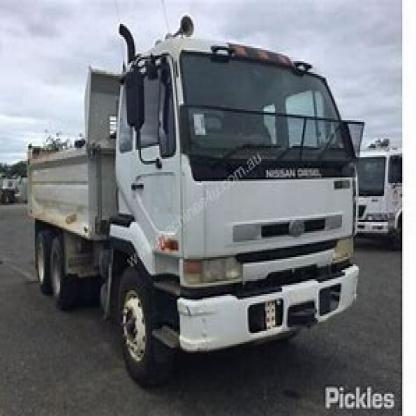dump_truck: (15, 30, 370, 390)
